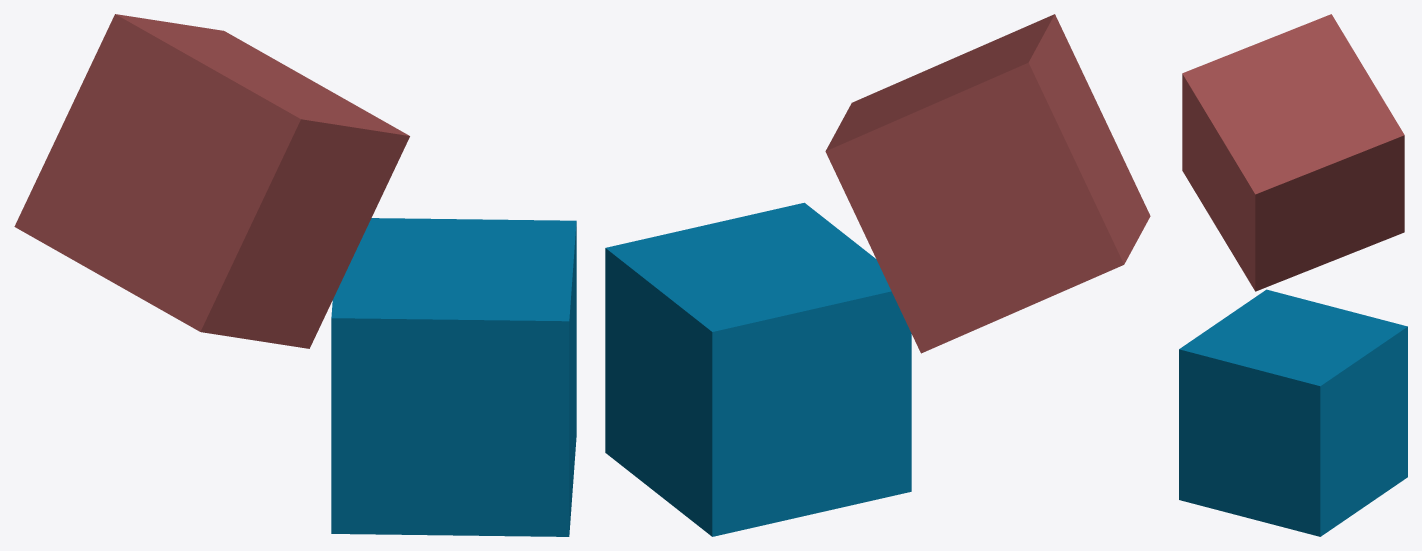
The model's file is hierCubes.fbx.
The picture shows the model from 3 angles, left to right: view 1: azimuth 30°, elevation 25°; view 2: azimuth 150°, elevation 25°; view 3: azimuth 270°, elevation 25°; orthographic projection. The views are drawn at different scales.
Visible parts, largest first — view 1: parentCube, childCube; view 2: childCube, parentCube; view 3: childCube, parentCube.
Part boxes in pixels (bbox=[...]): parentCube: bbox=[14, 14, 409, 348]; childCube: bbox=[331, 218, 576, 536]; childCube: bbox=[605, 202, 911, 536]; parentCube: bbox=[825, 14, 1150, 353]; childCube: bbox=[1179, 289, 1407, 536]; parentCube: bbox=[1182, 14, 1404, 291].
Size of what is drawn, in the model's own units: 2.69 by 2.44 by 1.38.
